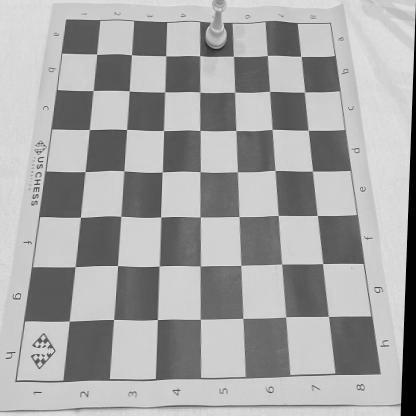white-queen: (205, 0, 229, 51)
